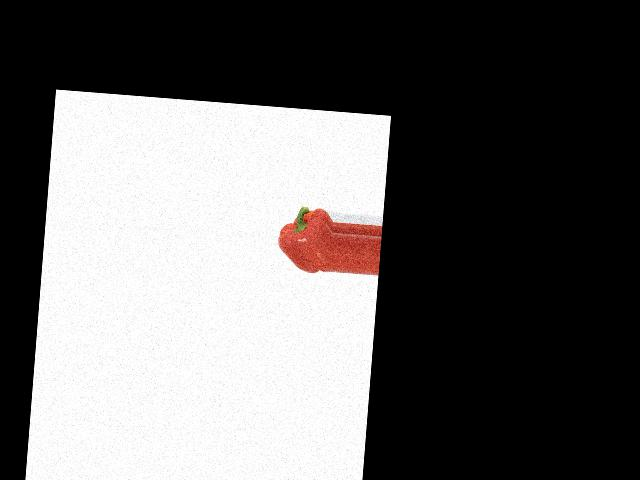bell_pepper: (274, 195, 335, 281)
